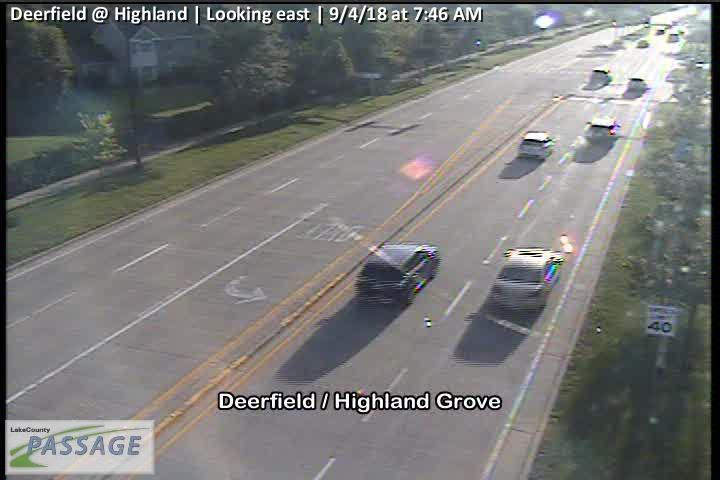SUV: (354, 243, 441, 305)
Sedan: (491, 247, 564, 311), (519, 132, 553, 159), (585, 117, 618, 142), (628, 77, 648, 92), (592, 68, 609, 83), (669, 32, 679, 41), (638, 39, 648, 47), (656, 27, 664, 33)
